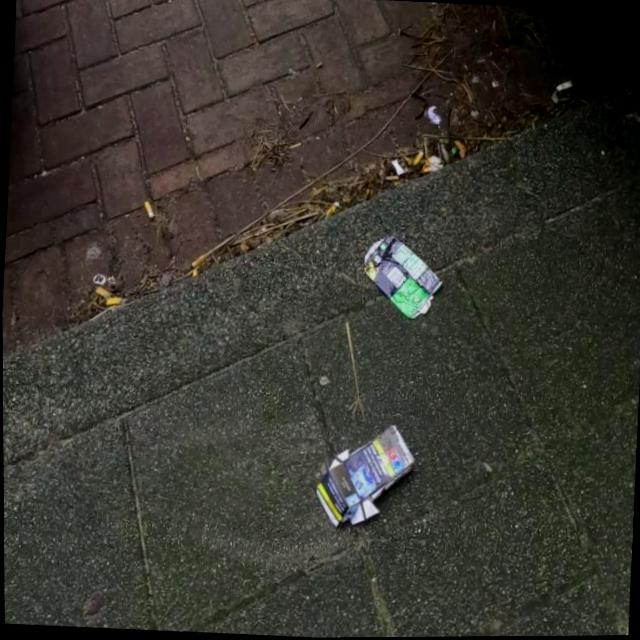Can-Metal: (359, 233, 445, 322)
Paper: (308, 418, 420, 537)
